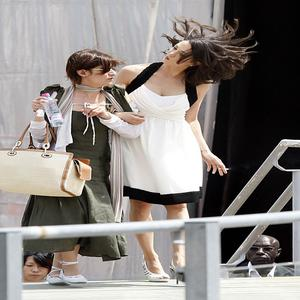cigarette: (216, 166, 233, 173)
